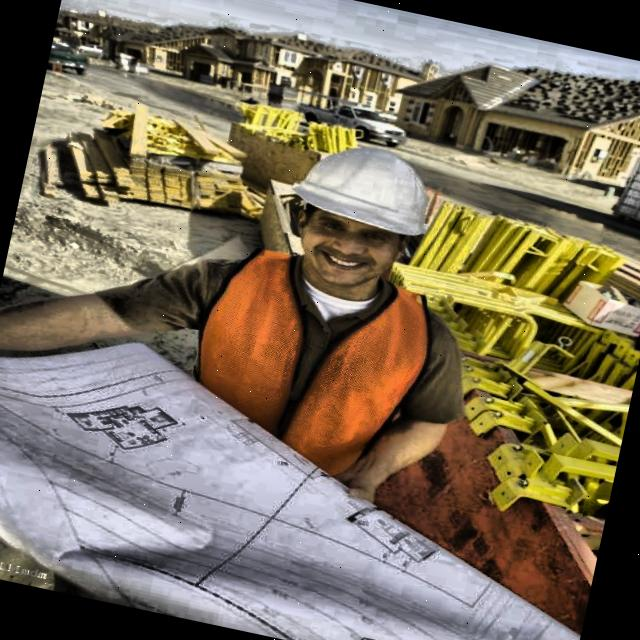helmet: (252, 113, 457, 308)
